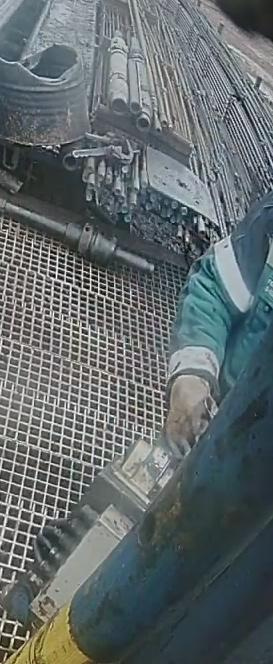gloves: (161, 361, 220, 458)
vest: (211, 185, 272, 405)
